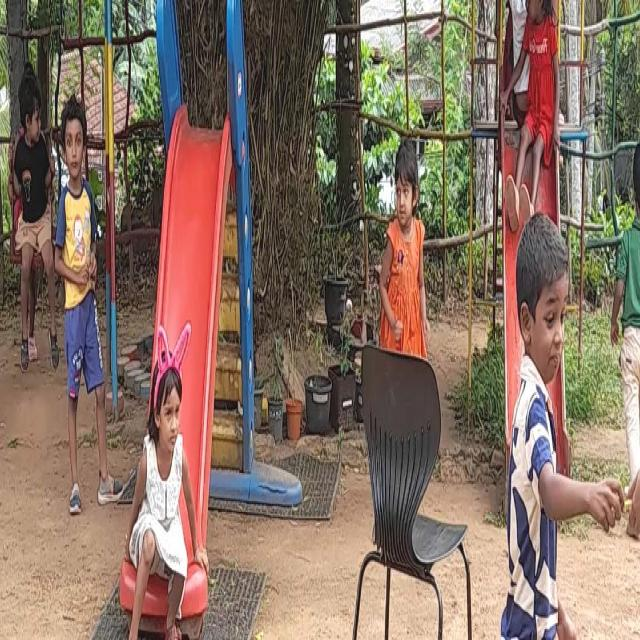child: (472, 226, 578, 640), (125, 334, 202, 640), (64, 63, 107, 530), (380, 131, 432, 351), (15, 74, 49, 380), (613, 128, 640, 506)
